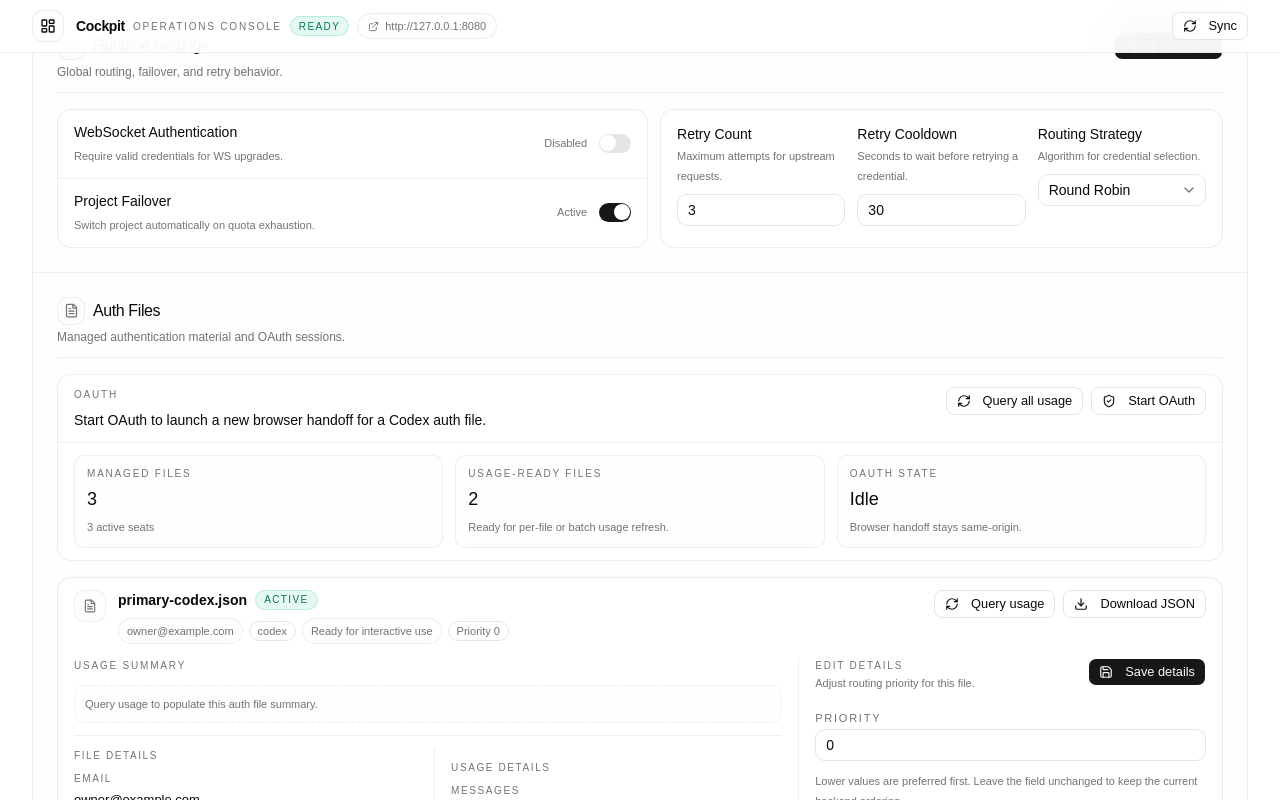
Test: App › refreshes usage only for auth files with usage_available and merges the returned summary
The image size is (1280, 800).
Click the button "Query all usage". click: (1014, 400)
box: left=946, top=386, right=1083, bottom=414
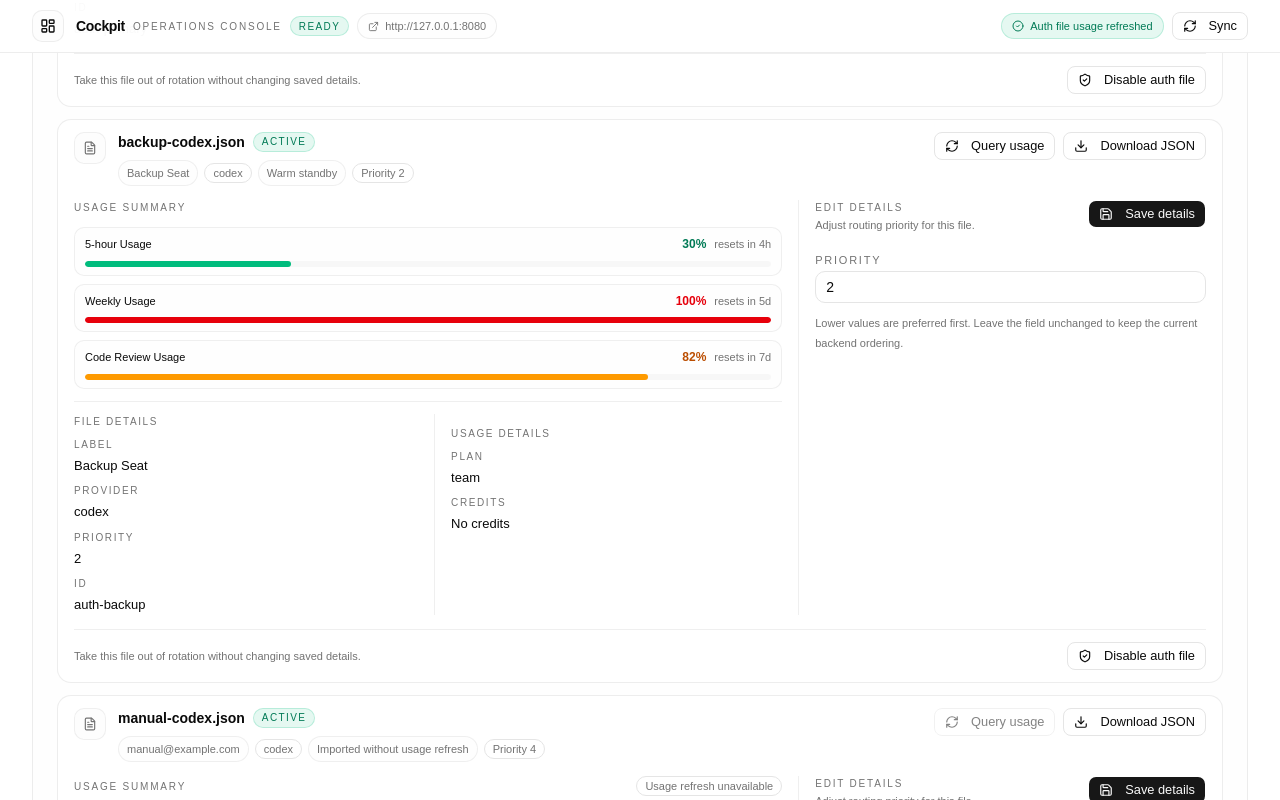
Now the element that starts with "backup-codex.json" shows "Plan", box left=451, top=450, right=484, bottom=462
Now the element that starts with "backup-codex.json" shows "team", box left=451, top=470, right=480, bottom=484
Now the element that starts with "backup-codex.json" shows "5-hour Usage", box left=85, top=238, right=152, bottom=250
